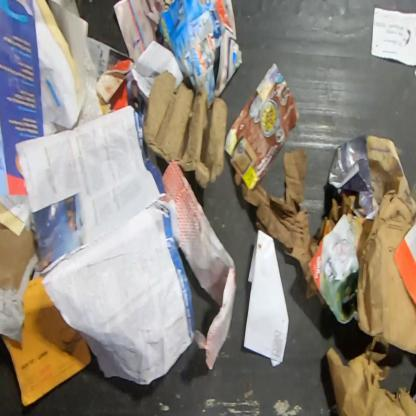cardboard: (240, 146, 327, 309), (142, 69, 228, 190), (224, 62, 302, 191), (0, 222, 36, 290)
